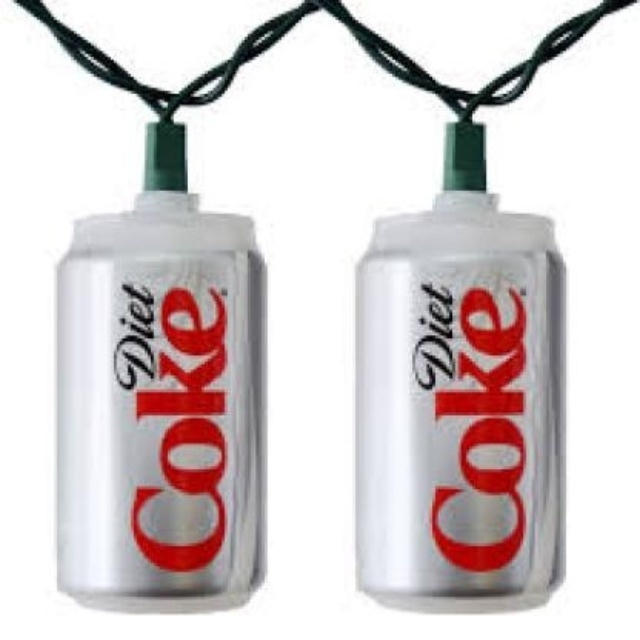trash: (357, 122, 563, 598), (57, 123, 265, 594)
